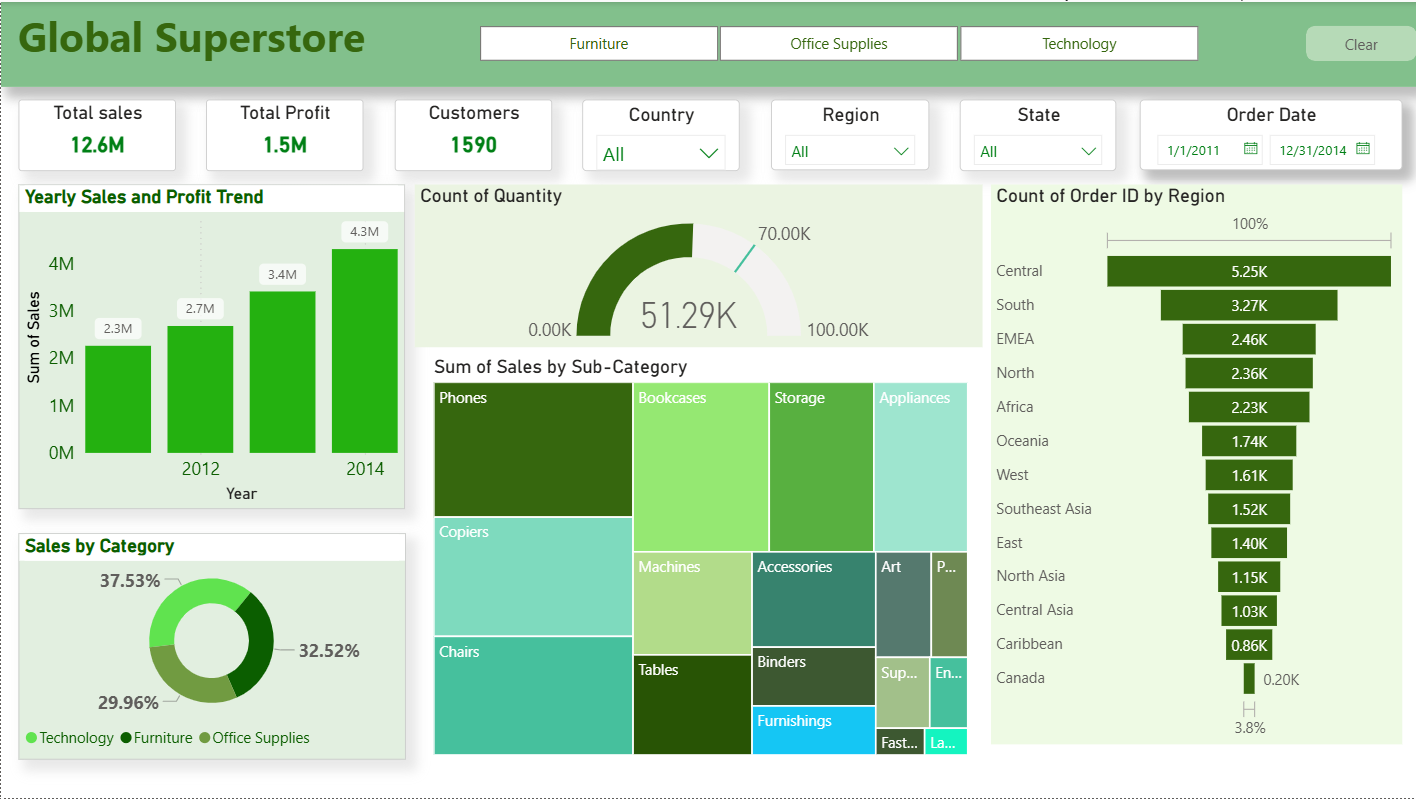

This screenshot's page, from the dashboard's own definition file:
{"tool":"powerbi","page":{"name":"Basic","canvas":[1280,720],"ordinal":0},"visuals":[{"type":"textbox","box":[0,0,1280,76.5],"z":0},{"type":"card","title":"Total sales","fields":{"Values":["Sum(Orders.Sales)"]},"box":[15.6,87.9,142,65],"z":1000},{"type":"card","title":"Total Profit","fields":{"Values":["Sum(Orders.Profit)"]},"box":[185.7,87.9,142,65],"z":2000},{"type":"card","title":"Customers","fields":{"Values":["Count(Orders.Customer ID)"]},"box":[355.8,87.9,142,65],"z":3000},{"type":"slicer","title":"Country","fields":{"Values":["Orders.Country"]},"box":[525.9,87.9,142,65],"z":4000},{"type":"slicer","title":"Region","fields":{"Values":["Orders.Region"]},"box":[696.1,87.9,143,64],"z":5000},{"type":"slicer","title":"State","fields":{"Values":["Orders.State"]},"box":[867.2,87.9,141.9,65.1],"z":6000},{"type":"slicer","title":"Order Date","fields":{"Values":["Orders.Order Date"]},"box":[1030.2,88.4,237.2,64],"z":7000},{"type":"slicer","fields":{"Values":["Orders.Category"]},"box":[407,15.1,700,45.3],"z":8000},{"type":"lineStackedColumnComboChart","title":"Yearly Sales and Profit Trend","fields":{"Y":["Sum(Orders.Sales)"],"Category":["Order Date.Date.Variation.Date Hierarchy.Year"]},"box":[15.8,165.1,349.4,294],"z":9000},{"type":"donutChart","title":"Sales by Category","fields":{"Category":["Orders.Category"],"Y":["Sum(Orders.Sales)"]},"box":[15.5,481,350,205.2],"z":10000},{"type":"treemap","fields":{"Group":["Orders.Sub-Category"],"Values":["Sum(Orders.Sales)"]},"box":[386.7,320,493,366.3],"z":11000},{"type":"funnel","fields":{"Category":["Orders.Region"],"Y":["Count(Orders.Order ID)"]},"box":[895.5,165.1,372,506.5],"z":12000},{"type":"gauge","fields":{"Y":["CountNonNull(Orders.Quantity)"]},"box":[374.2,165.1,513.3,147],"z":13000},{"type":"actionButton","box":[1180,22,100,31.9],"z":14000}]}

Visuals, with their boxes in screenshot pixels (x1, y1, x2, y2), scaled from the page's 1280x720 canvas onto the 1416x799 screenshot:
textbox: [x1=0, y1=0, x2=1415, y2=85]
"Total sales" card: [x1=17, y1=98, x2=174, y2=170]
"Total Profit" card: [x1=205, y1=98, x2=363, y2=170]
"Customers" card: [x1=394, y1=98, x2=551, y2=170]
"Country" slicer: [x1=582, y1=98, x2=739, y2=170]
"Region" slicer: [x1=770, y1=98, x2=928, y2=169]
"State" slicer: [x1=959, y1=98, x2=1116, y2=170]
"Order Date" slicer: [x1=1140, y1=98, x2=1402, y2=169]
slicer - Orders.Category: [x1=450, y1=17, x2=1225, y2=67]
"Yearly Sales and Profit Trend" lineStackedColumnComboChart: [x1=17, y1=183, x2=404, y2=509]
"Sales by Category" donutChart: [x1=17, y1=534, x2=404, y2=761]
treemap - Orders.Sub-Category x Sum(Orders.Sales): [x1=428, y1=355, x2=973, y2=762]
funnel - Orders.Region x Count(Orders.Order ID): [x1=991, y1=183, x2=1402, y2=745]
gauge - CountNonNull(Orders.Quantity): [x1=414, y1=183, x2=982, y2=346]
actionButton: [x1=1305, y1=24, x2=1415, y2=60]
